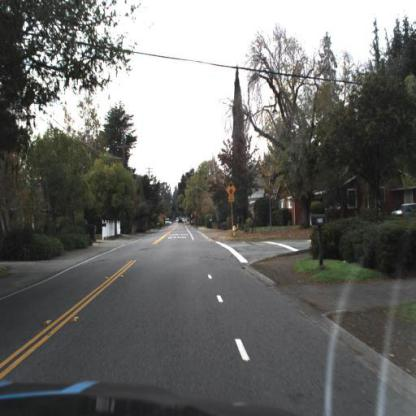car: (192, 220, 197, 227), (177, 220, 180, 224), (170, 222, 173, 226)
truck: (180, 217, 188, 225), (166, 219, 171, 227)
